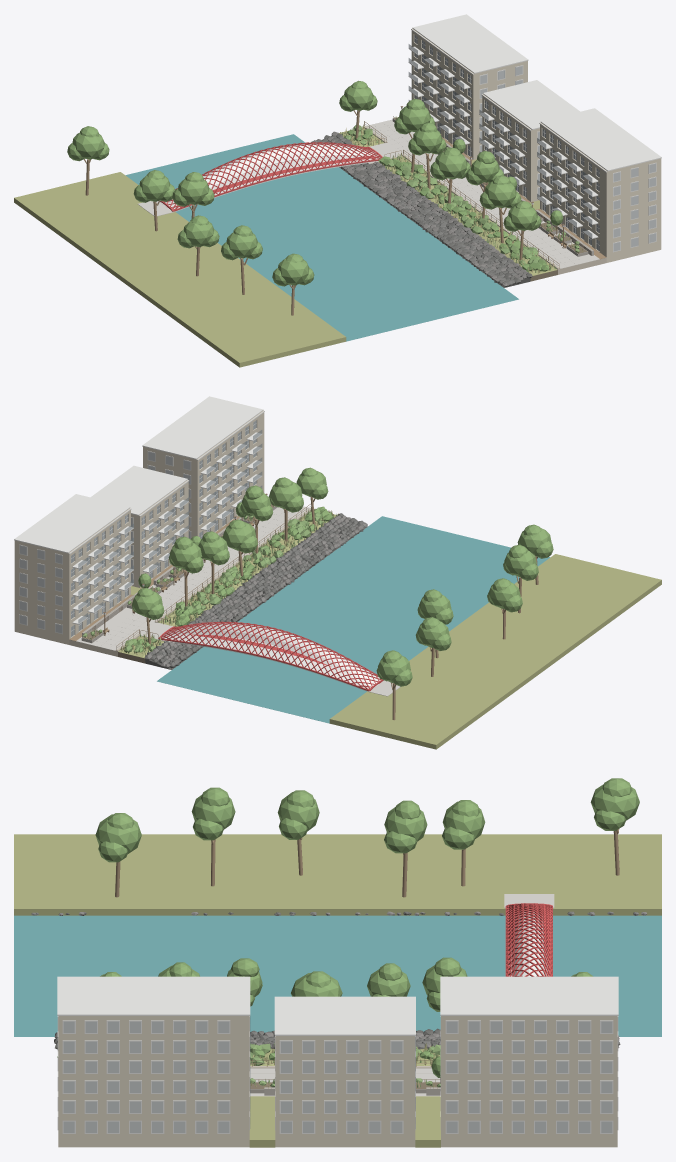
File: clay-calgary-riverwalk-clay-v002.glb
3 renders of one model, top to bottom at view 1: azimuth 30°, elevation 25°; view 2: azimuth 150°, elevation 25°; view 3: azimuth 270°, elevation 25°, orthographic. The views are drawn at different scales.
Parts seen in each view (by area): view 1: CLAY_WATER, CLAY_GRASS, CLAY_TRIM, CLAY_BRICK, CLAY_TREE, CLAY_GLASS, CLAY_CONCRETE, CLAY_RED, CLAY_WHITE, CLAY_ROCK, CLAY_PLANTING, CLAY_ROCK3 (+3 smaller); view 2: CLAY_WATER, CLAY_GRASS, CLAY_TRIM, CLAY_BRICK, CLAY_TREE, CLAY_GLASS, CLAY_CONCRETE, CLAY_RED, CLAY_WHITE, CLAY_PLANTING, CLAY_ROCK3, CLAY_ROCK (+6 smaller); view 3: CLAY_GRASS, CLAY_TRIM, CLAY_WATER, CLAY_BRICK, CLAY_TREE, CLAY_GLASS, CLAY_RED, CLAY_CONCRETE, CLAY_TIMBER, CLAY_WHITE, CLAY_PLANTING, CLAY_ROCK3.
Boxes of the visible parts, x1,y1,x2,y2 form: CLAY_WATER: (125,134,518,341); CLAY_GRASS: (14,124,557,367); CLAY_TRIM: (408,14,661,252); CLAY_BRICK: (411,28,661,262); CLAY_TREE: (67,80,563,286); CLAY_GLASS: (408,35,655,250); CLAY_CONCRETE: (138,119,599,269); CLAY_RED: (160,142,382,211); CLAY_WHITE: (160,143,380,211); CLAY_ROCK: (311,136,522,286); CLAY_PLANTING: (342,117,579,272); CLAY_ROCK3: (313,131,528,286); CLAY_WATER: (157,516,550,723); CLAY_GRASS: (118,508,661,749); CLAY_TRIM: (14,396,264,636); CLAY_BRICK: (14,410,264,644); CLAY_TREE: (129,467,553,686); CLAY_GLASS: (20,420,262,636); CLAY_CONCRETE: (76,506,400,696); CLAY_RED: (158,621,383,691); CLAY_WHITE: (162,623,383,691); CLAY_PLANTING: (82,505,337,653); CLAY_ROCK3: (144,515,367,668); CLAY_ROCK: (150,518,365,668); CLAY_GRASS: (14,834,661,1147); CLAY_TRIM: (57,976,618,1133); CLAY_WATER: (14,915,661,1036); CLAY_BRICK: (58,1016,617,1147); CLAY_TREE: (57,778,639,1077); CLAY_GLASS: (64,1016,611,1132); CLAY_RED: (505,903,552,976); CLAY_CONCRETE: (250,894,554,1096); CLAY_TIMBER: (115,829,619,1083); CLAY_WHITE: (509,909,549,976); CLAY_PLANTING: (250,1043,440,1087); CLAY_ROCK3: (38,911,646,1048).
Size of the model in its own units: 98.6 by 19.9 by 88.
